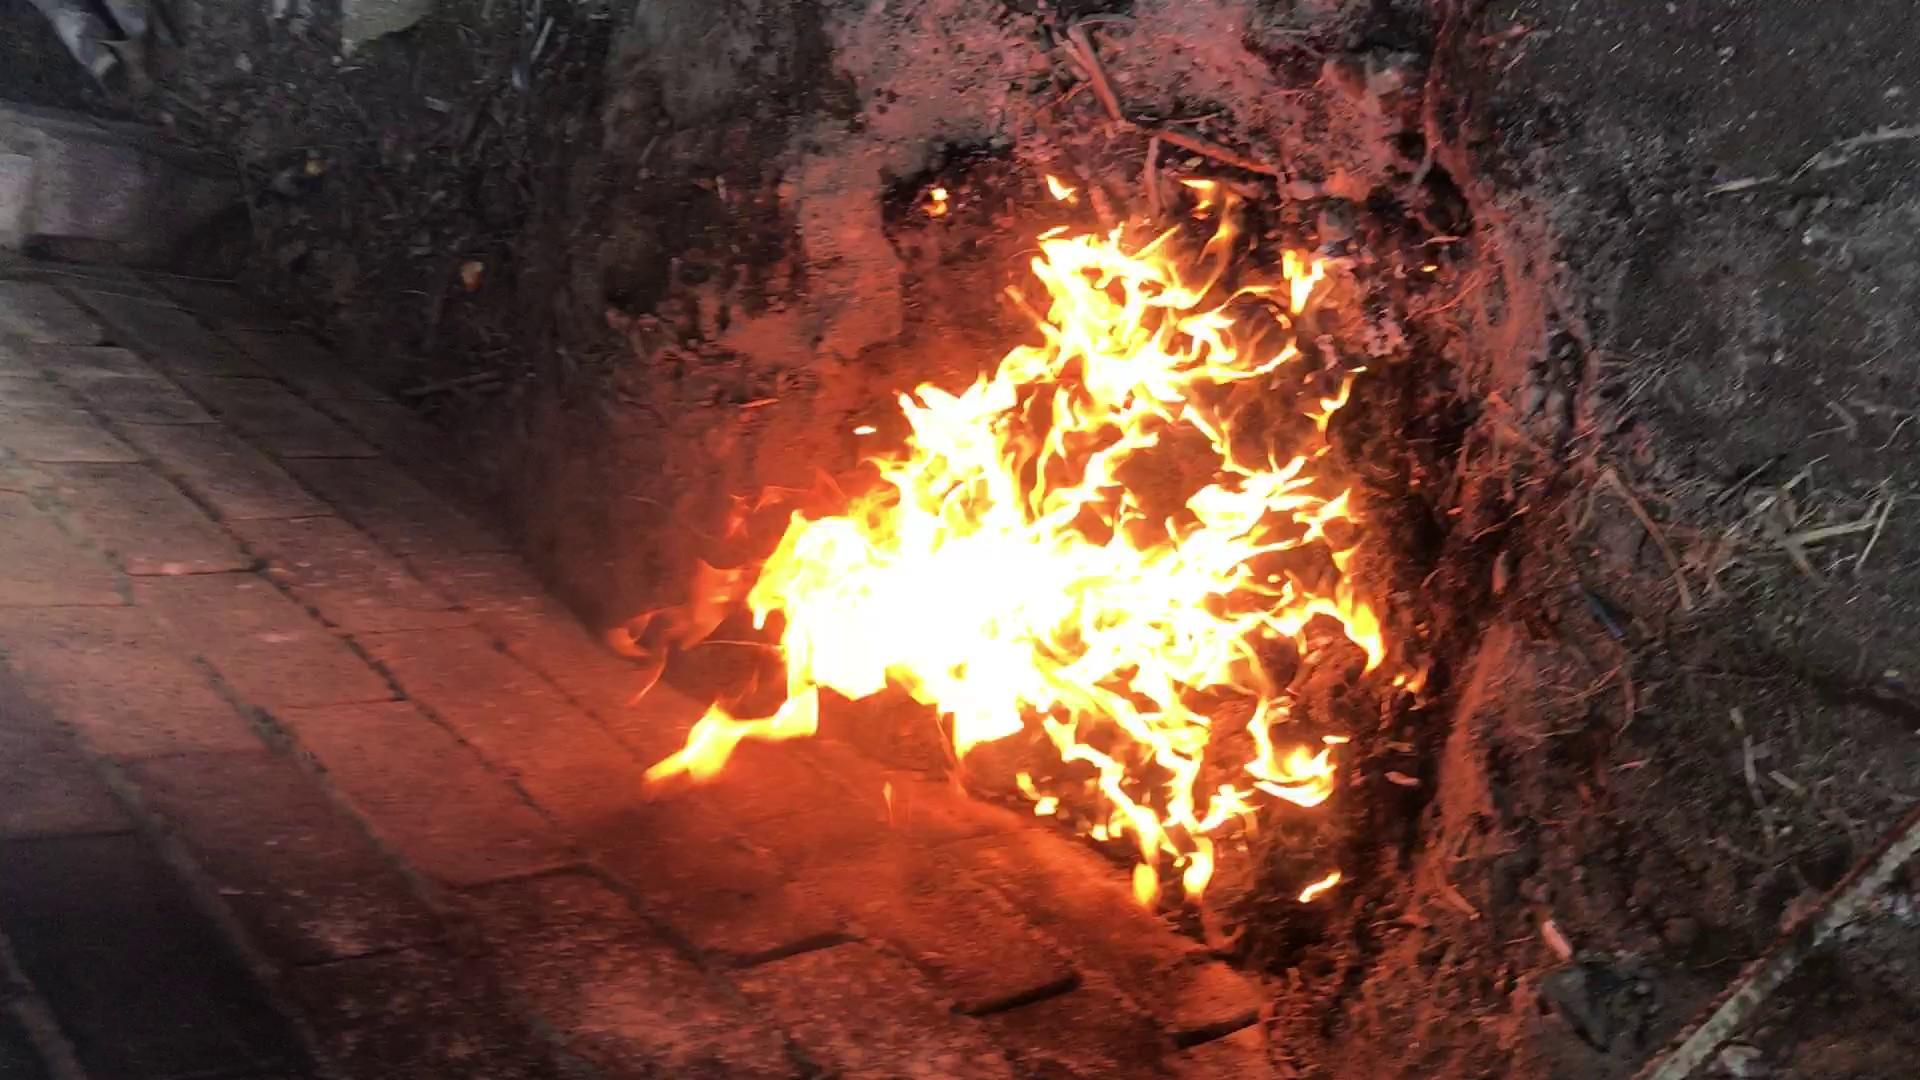fire: (427, 369, 1551, 765)
